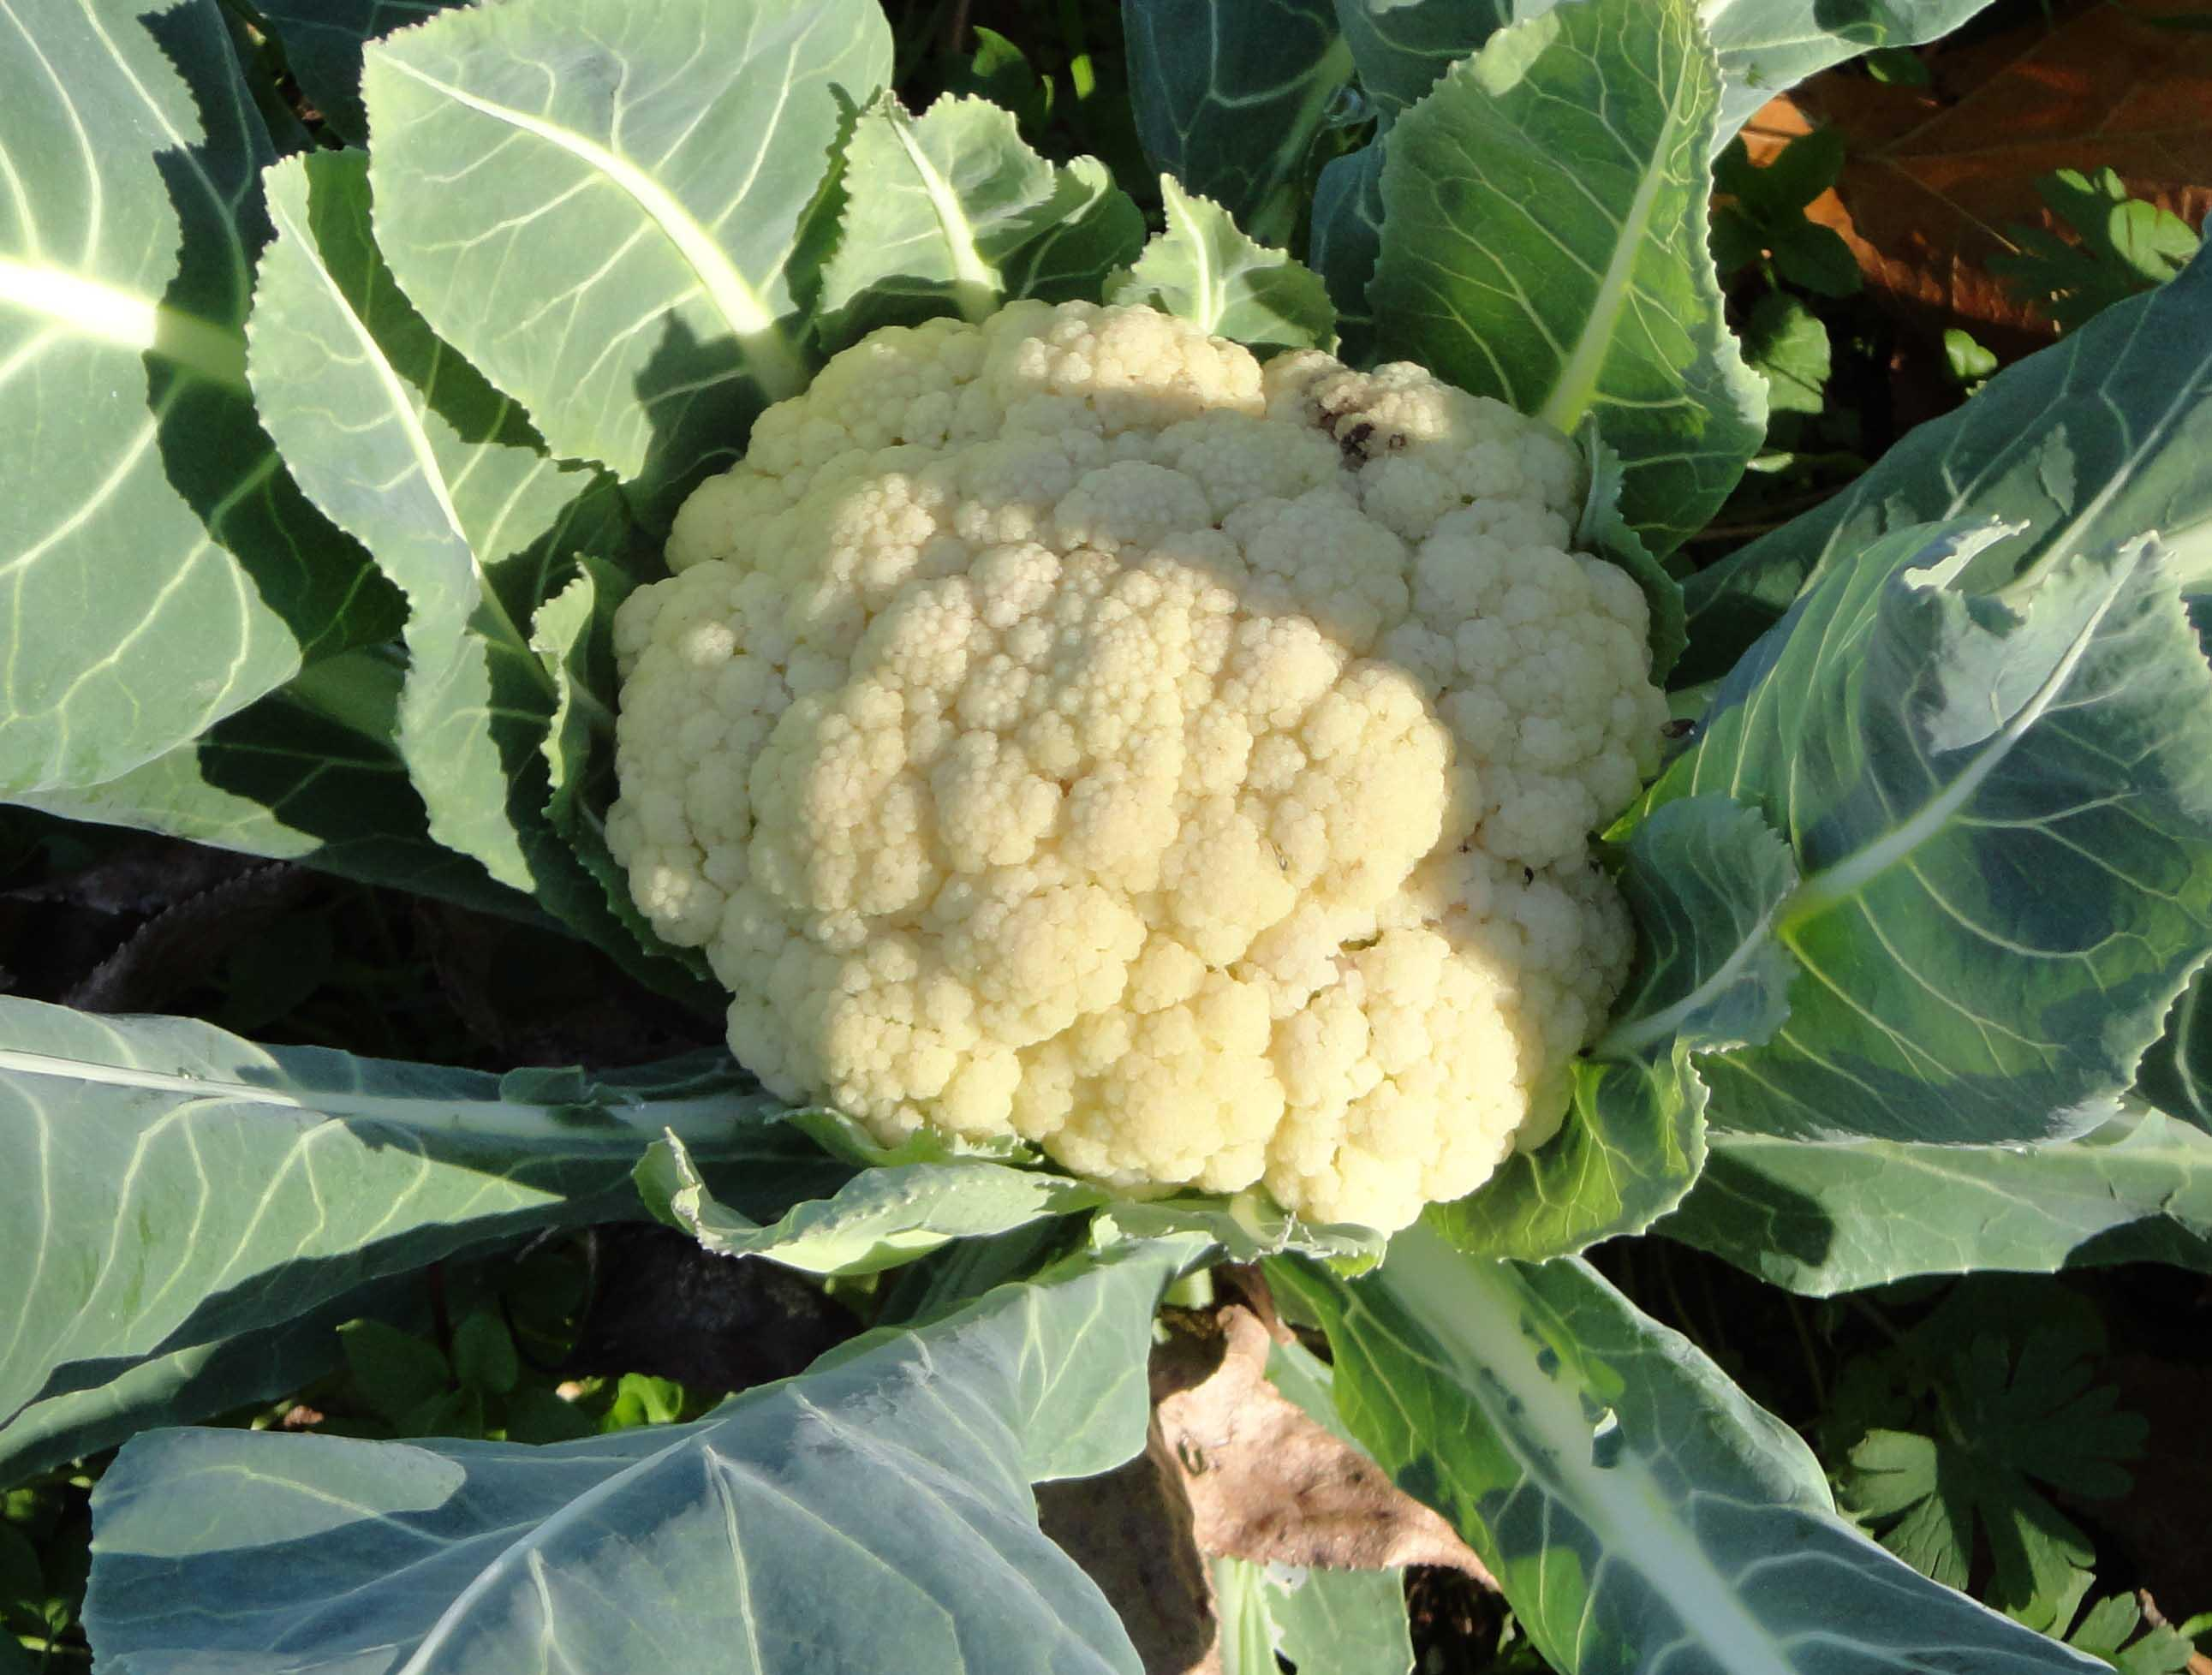cauliflower: (602, 290, 1674, 1242)
